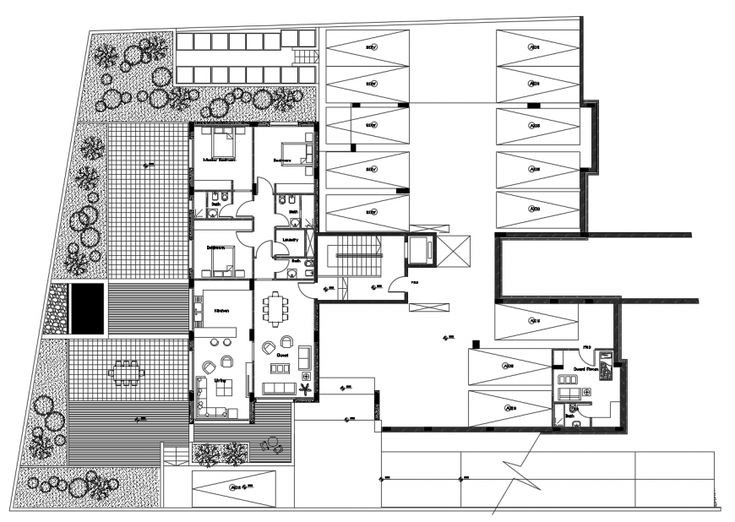door: (257, 176, 277, 196), (271, 239, 289, 258), (577, 352, 597, 369), (238, 202, 256, 218), (236, 233, 255, 248), (298, 284, 315, 300), (217, 204, 235, 218)
room: (256, 282, 313, 385), (194, 338, 246, 419), (193, 129, 255, 188), (256, 130, 313, 193), (554, 350, 619, 400), (194, 232, 252, 277), (197, 194, 255, 217), (276, 194, 313, 227)
wall: (501, 291, 698, 305), (387, 424, 616, 436), (497, 230, 695, 240), (590, 100, 602, 175), (313, 303, 322, 400), (492, 235, 505, 300), (313, 124, 321, 224), (188, 119, 268, 128), (618, 370, 629, 430), (328, 297, 407, 305), (317, 232, 422, 238), (582, 179, 591, 230), (614, 310, 623, 361), (184, 392, 196, 421), (185, 170, 196, 201), (186, 213, 193, 238)
window: (185, 240, 196, 269), (186, 290, 194, 329), (184, 140, 194, 167), (187, 351, 194, 389)
